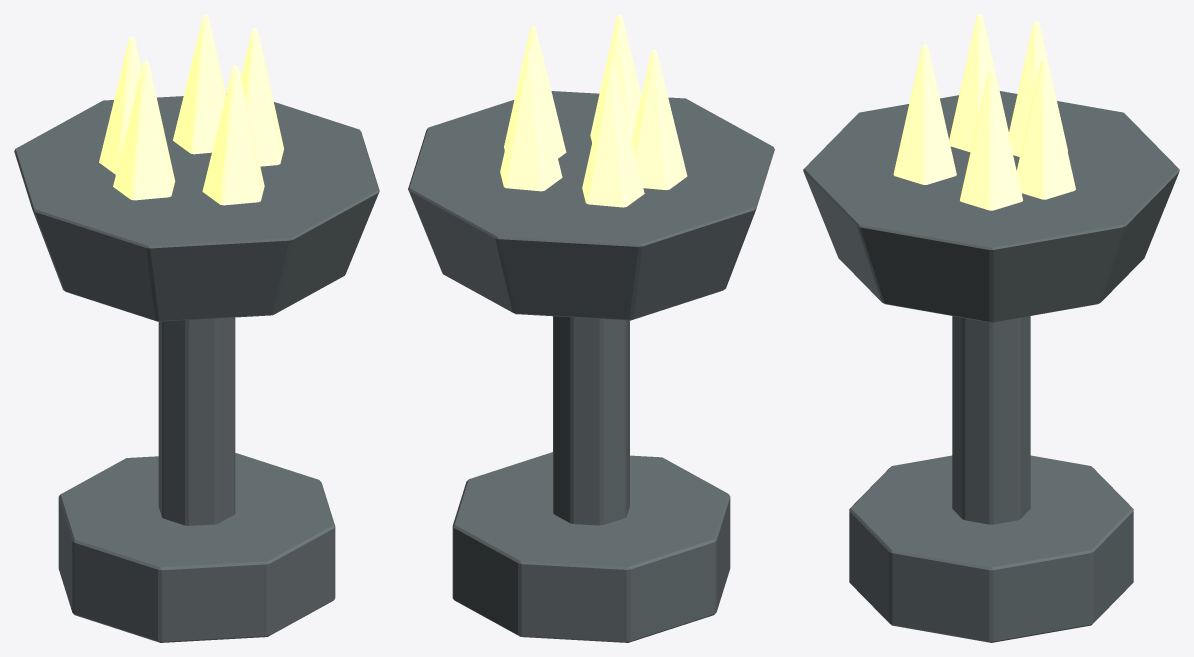
The model's file is brazier.glb.
The picture shows the model from 3 angles, left to right: view 1: azimuth 30°, elevation 25°; view 2: azimuth 150°, elevation 25°; view 3: azimuth 270°, elevation 25°; orthographic projection.
Parts seen in each view (by area): view 1: TV_brazier; view 2: TV_brazier; view 3: TV_brazier.
Part boxes in pixels (box(x1,y1,x2,y2)): TV_brazier: box(14, 14, 379, 642); TV_brazier: box(408, 14, 774, 642); TV_brazier: box(803, 14, 1179, 642).
Size of the model in its own units: 1.13 by 1.79 by 1.13.
